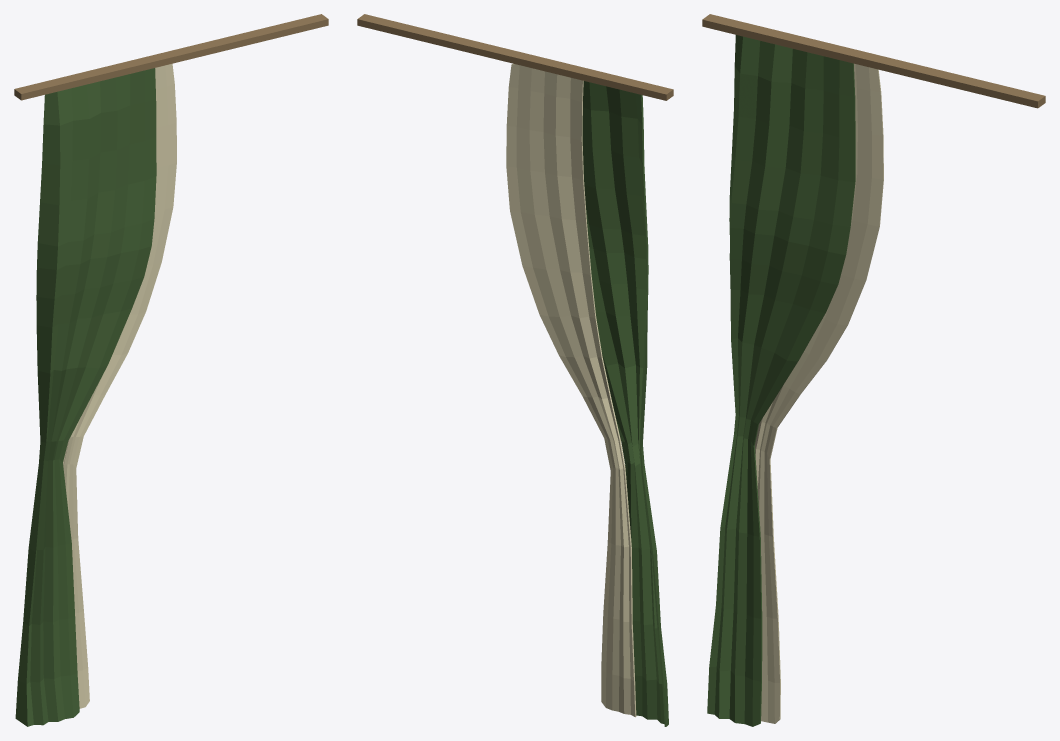
File: Curtain_2_L.fbx
3 views of the same model, side by side, from view 1: azimuth 30°, elevation 25°; view 2: azimuth 150°, elevation 25°; view 3: azimuth 330°, elevation 25° (orthographic). The views are drawn at different scales.
Parts seen in each view (by area): view 1: Curtain_2_L; view 2: Curtain_2_L; view 3: Curtain_2_L.
Boxes of the visible parts, x1,y1,x2,y2 form: Curtain_2_L: [14, 14, 328, 726]; Curtain_2_L: [357, 14, 673, 726]; Curtain_2_L: [702, 14, 1045, 726].
Bounding box in the file's own units: 100 × 197 × 7.
